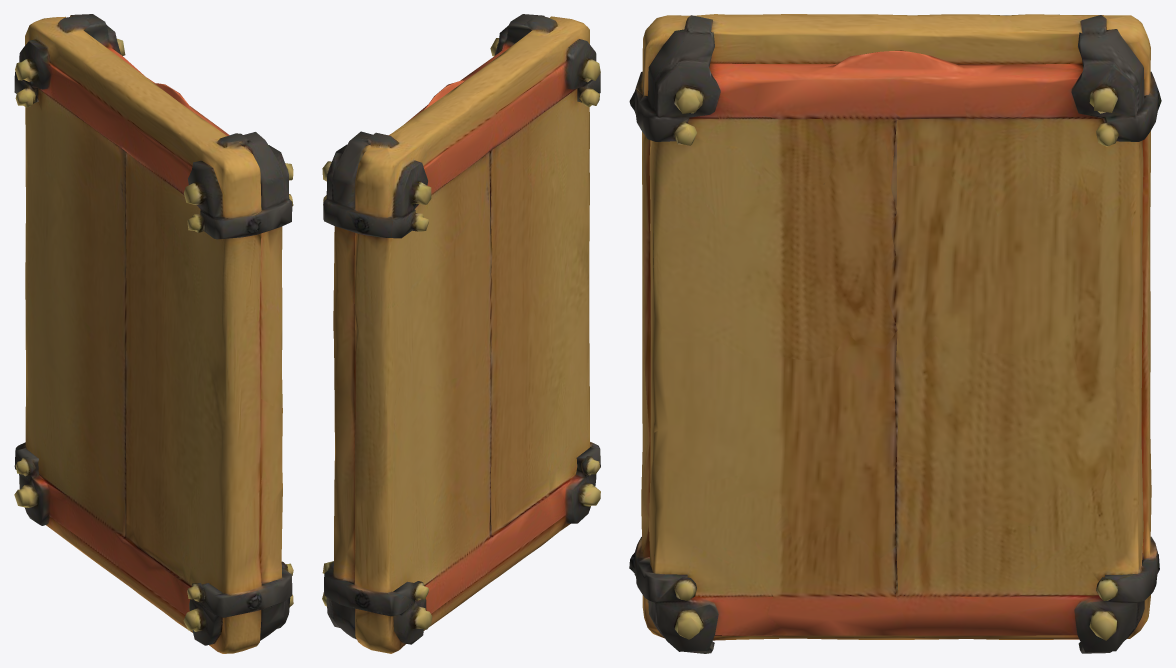
File: wall.glb
3 views of the same model, side by side, from view 1: azimuth 30°, elevation 25°; view 2: azimuth 150°, elevation 25°; view 3: azimuth 270°, elevation 25° (orthographic). The views are drawn at different scales.
Parts seen in each view (by area): view 1: tripo_node_7500f9e7-a986-451e-b149-eb48c4c698e7; view 2: tripo_node_7500f9e7-a986-451e-b149-eb48c4c698e7; view 3: tripo_node_7500f9e7-a986-451e-b149-eb48c4c698e7.
Boxes of the visible parts, <box> form: tripo_node_7500f9e7-a986-451e-b149-eb48c4c698e7: <box>14,14,293,653</box>; tripo_node_7500f9e7-a986-451e-b149-eb48c4c698e7: <box>322,14,600,653</box>; tripo_node_7500f9e7-a986-451e-b149-eb48c4c698e7: <box>629,14,1161,653</box>.
Size of the model in its own units: 0.2127 by 1 by 0.7757.
1 material, 1 textured.
